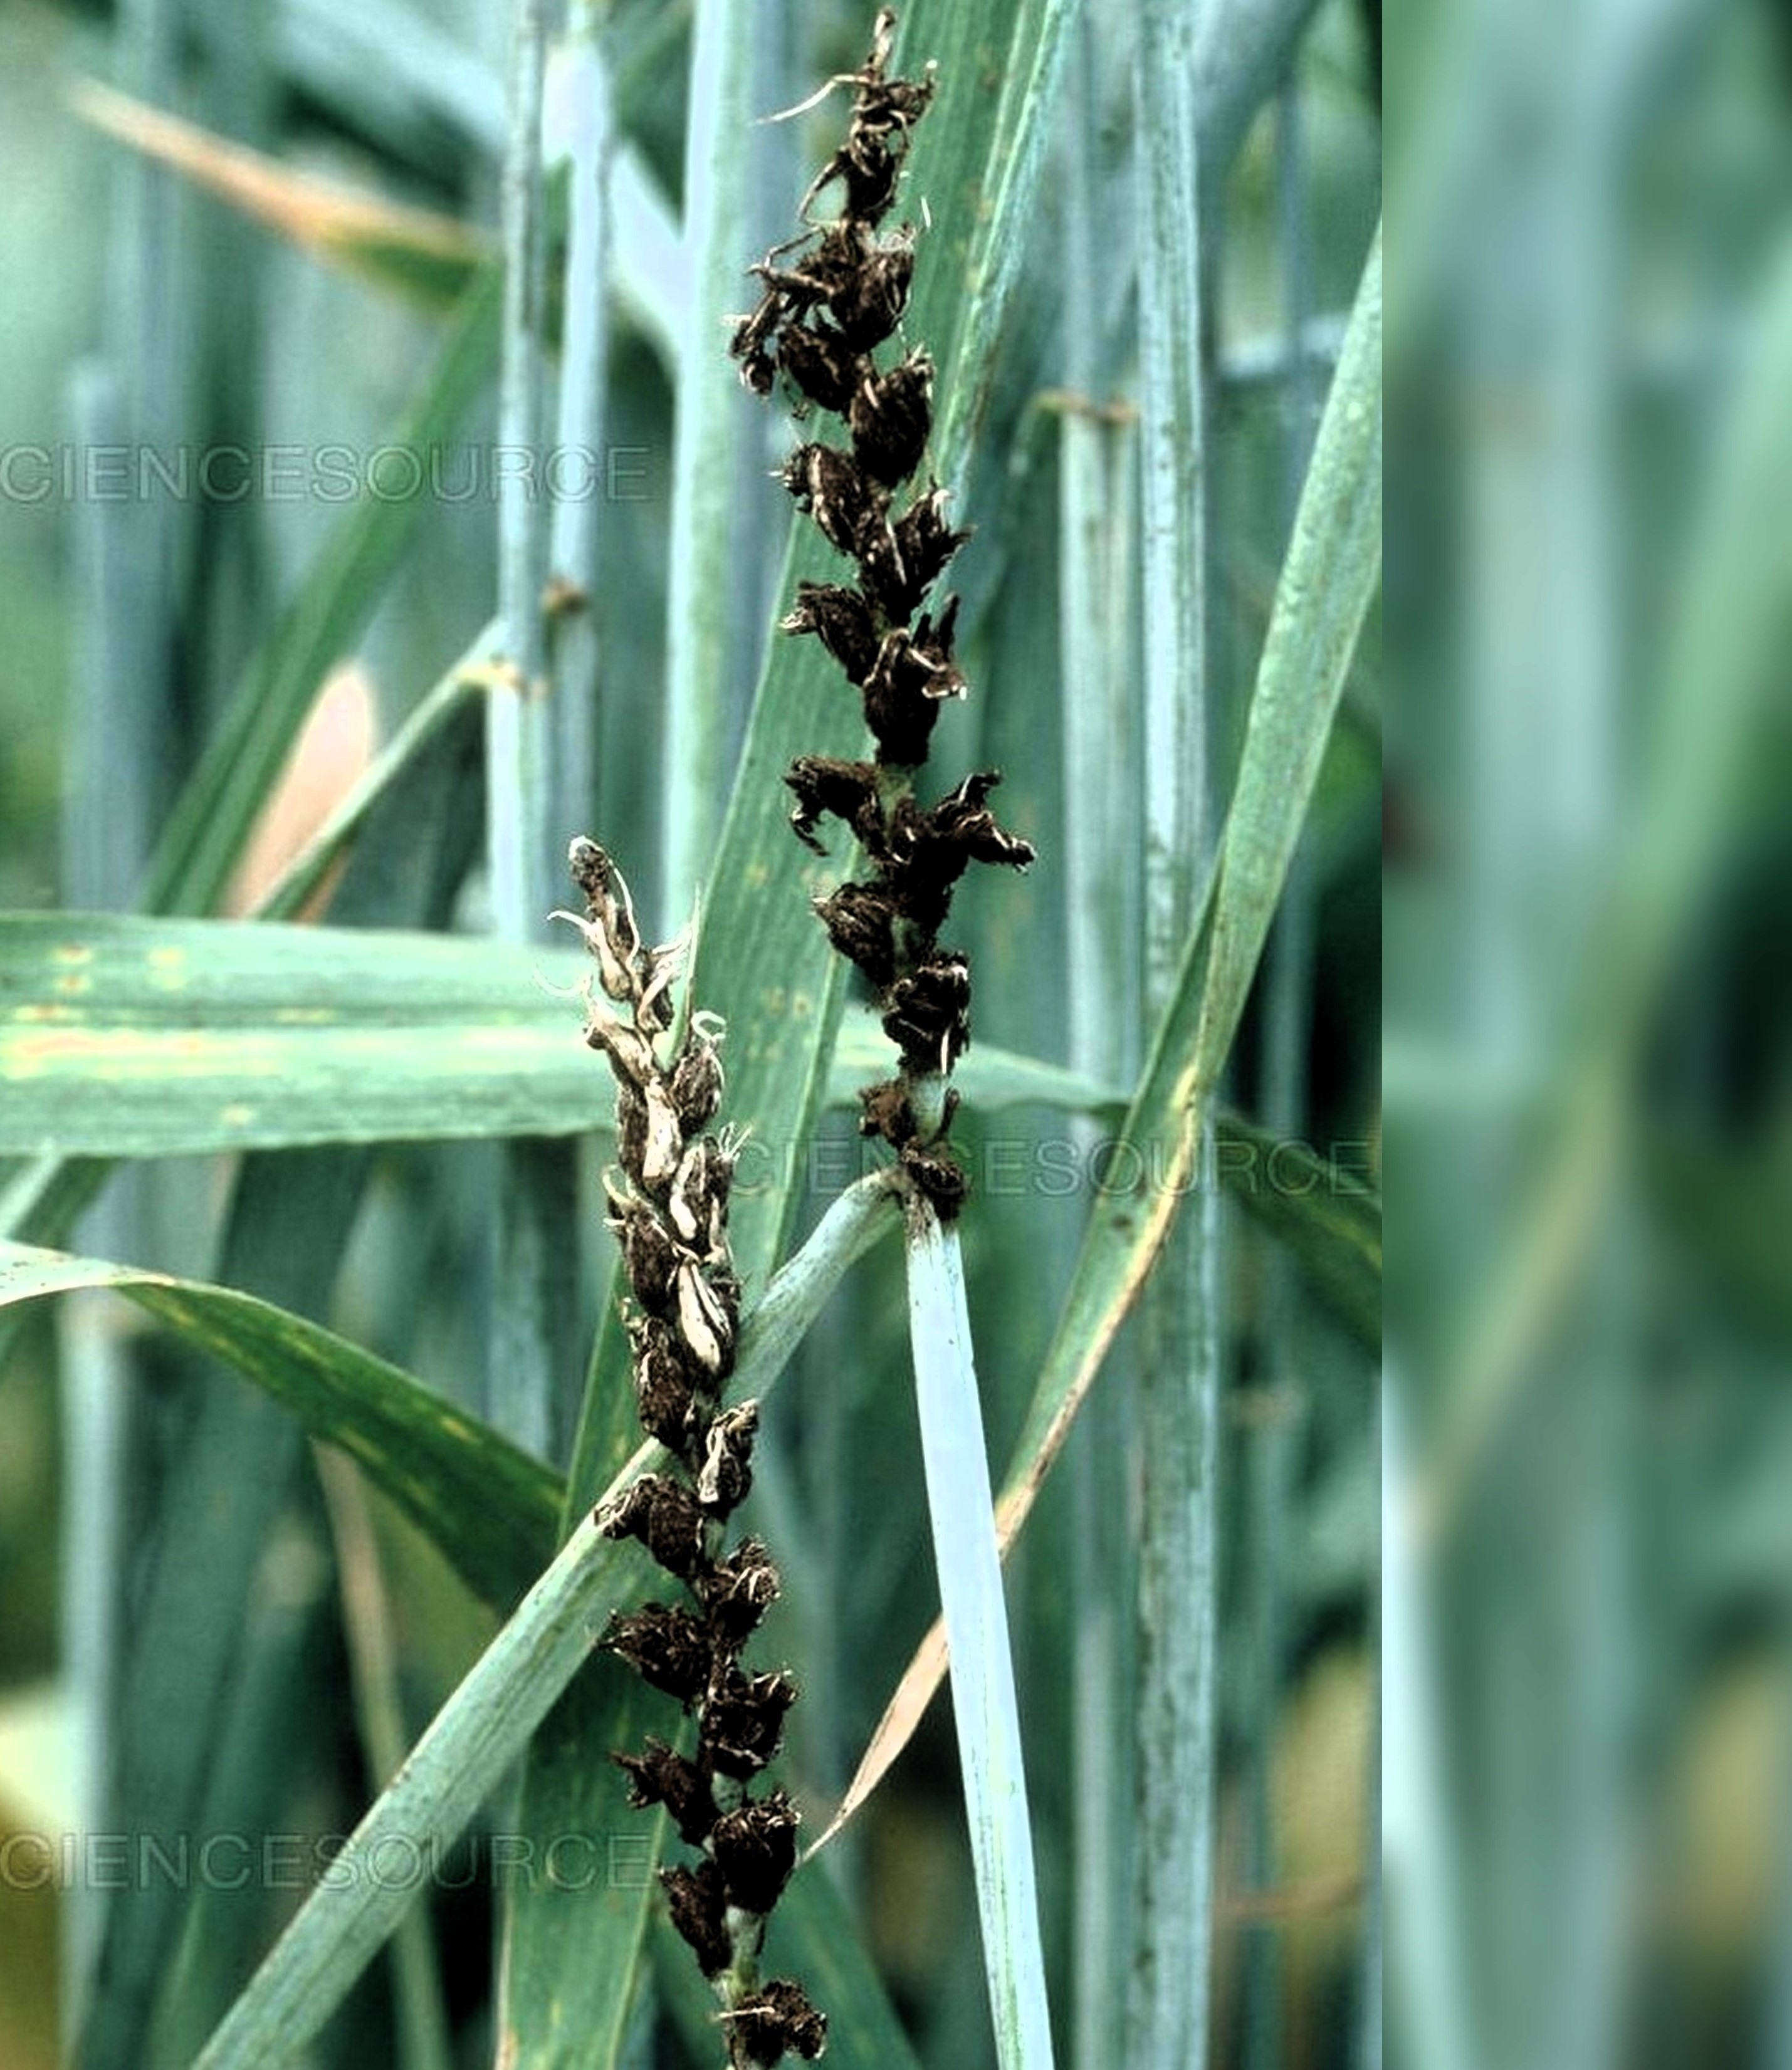Wheat Loose Smut: (701, 62, 1088, 1148)
